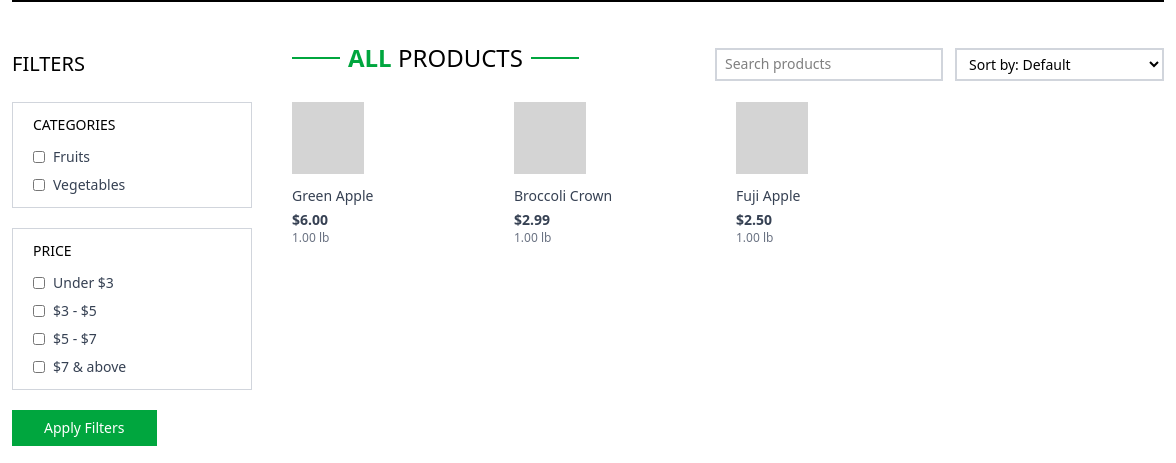
Test: Products search › narrows the list as the shopper types, ignoring capitals
Type "APPLE" into the search field labelled "Search products" at (829, 64), box 717,50 -> 941,78
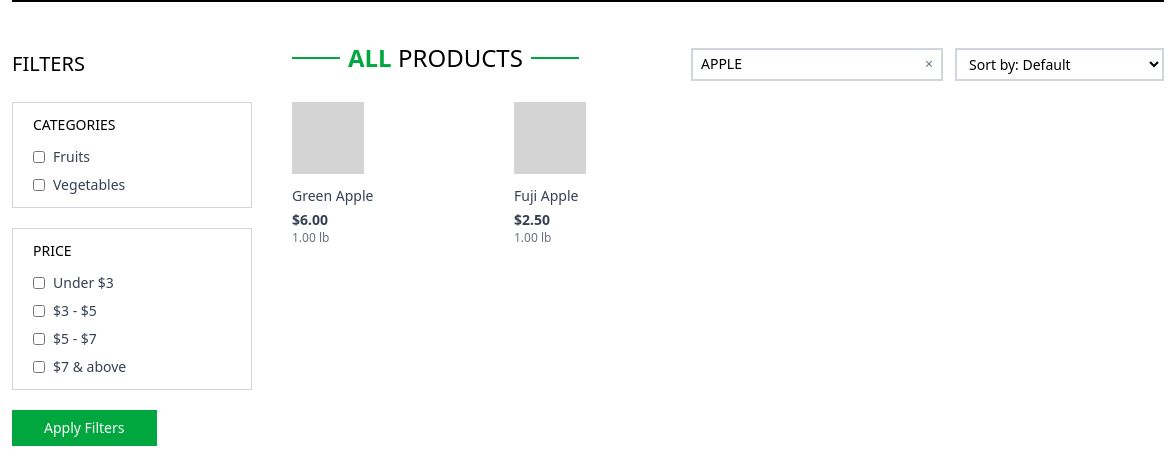
Expected: the text "Fuji Apple" is shown, 514,186 -> 578,205
Now the link "Broccoli Crown" is gone
